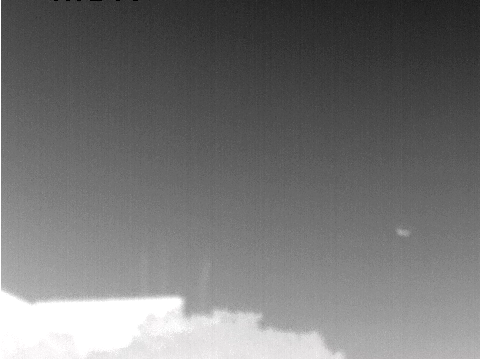dim target: (387, 220, 419, 243)
